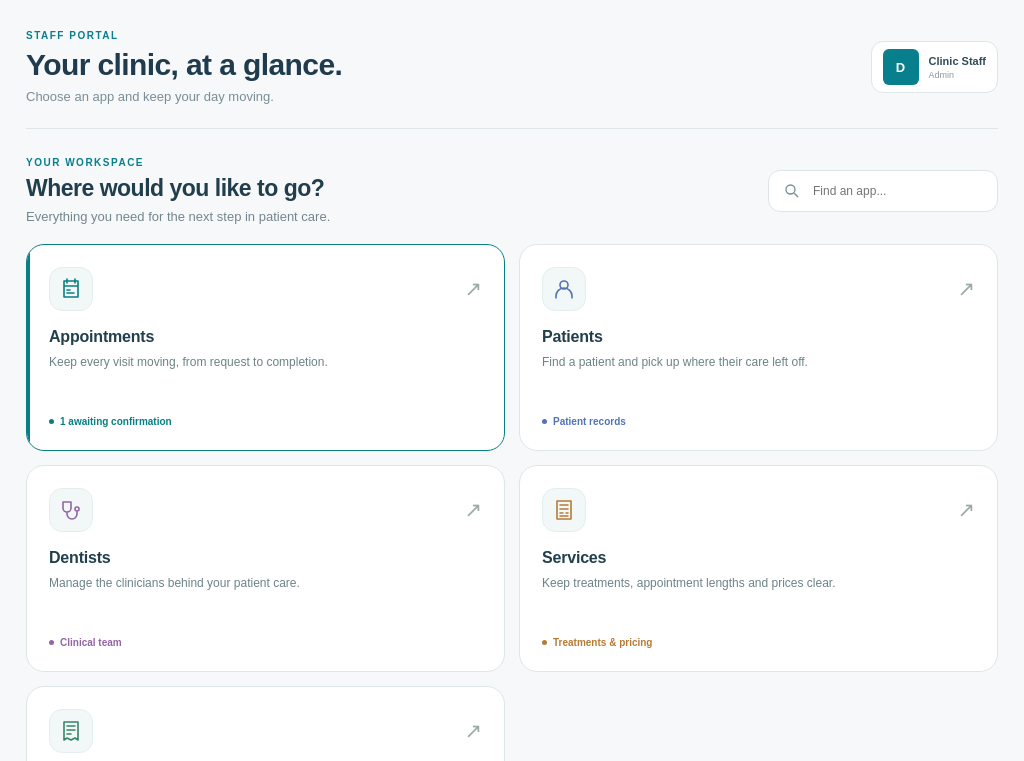
Clinic workspace app launcher › updates next-step guidance when a card receives keyboard focus
Focus the link with class "app-card" that starts with "Patients": [564, 289] box x1=519 y1=244 x2=998 y2=451
(page scrolled)
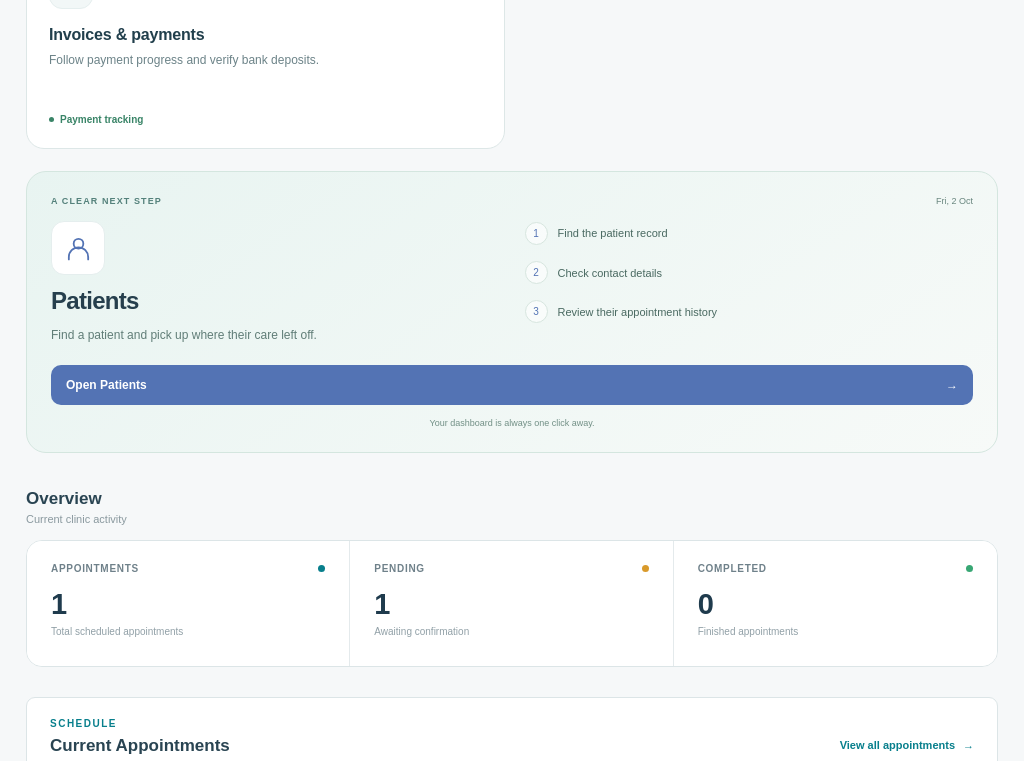
Check: the heading "Patients" is shown, box x1=51 y1=287 x2=139 y2=314
